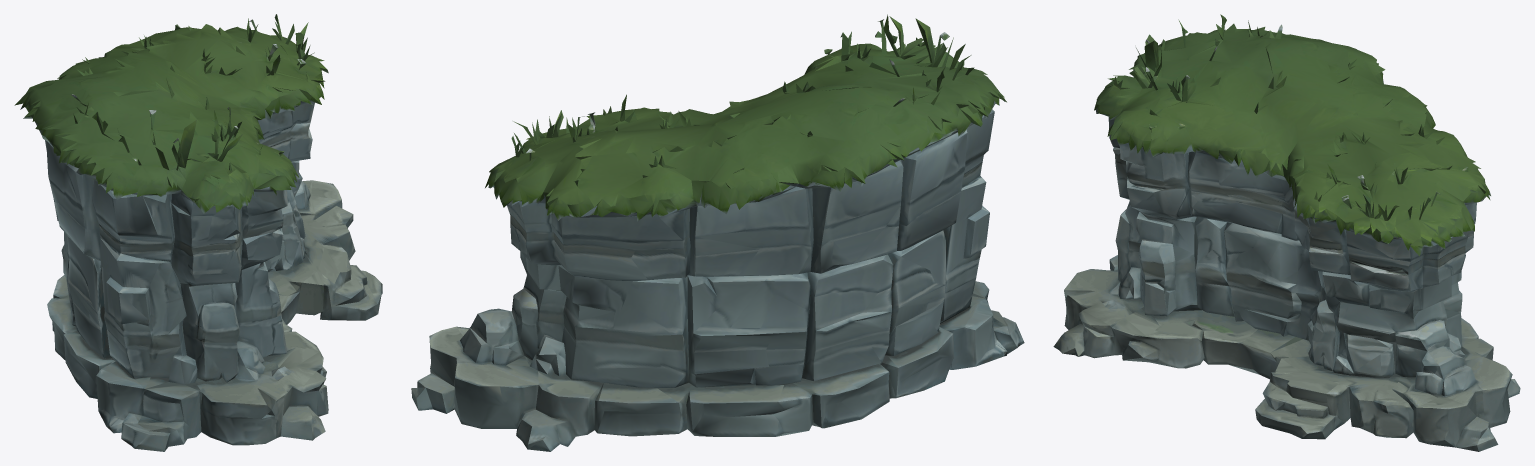
The picture shows the model from 3 angles, left to right: view 1: azimuth 30°, elevation 25°; view 2: azimuth 150°, elevation 25°; view 3: azimuth 270°, elevation 25°; orthographic projection. The views are drawn at different scales.
Parts seen in each view (by area): view 1: sea_cliff; view 2: sea_cliff; view 3: sea_cliff.
Part boxes in pixels (left/top/right/bottom): sea_cliff: left=14, top=14, right=382, bottom=451; sea_cliff: left=411, top=14, right=1024, bottom=451; sea_cliff: left=1053, top=14, right=1520, bottom=451.
Bounding box in the file's own units: 0.8932 × 0.6494 × 0.9793.
1 material, 1 textured.
